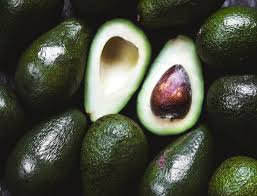aguacate: (21, 16, 89, 117)
